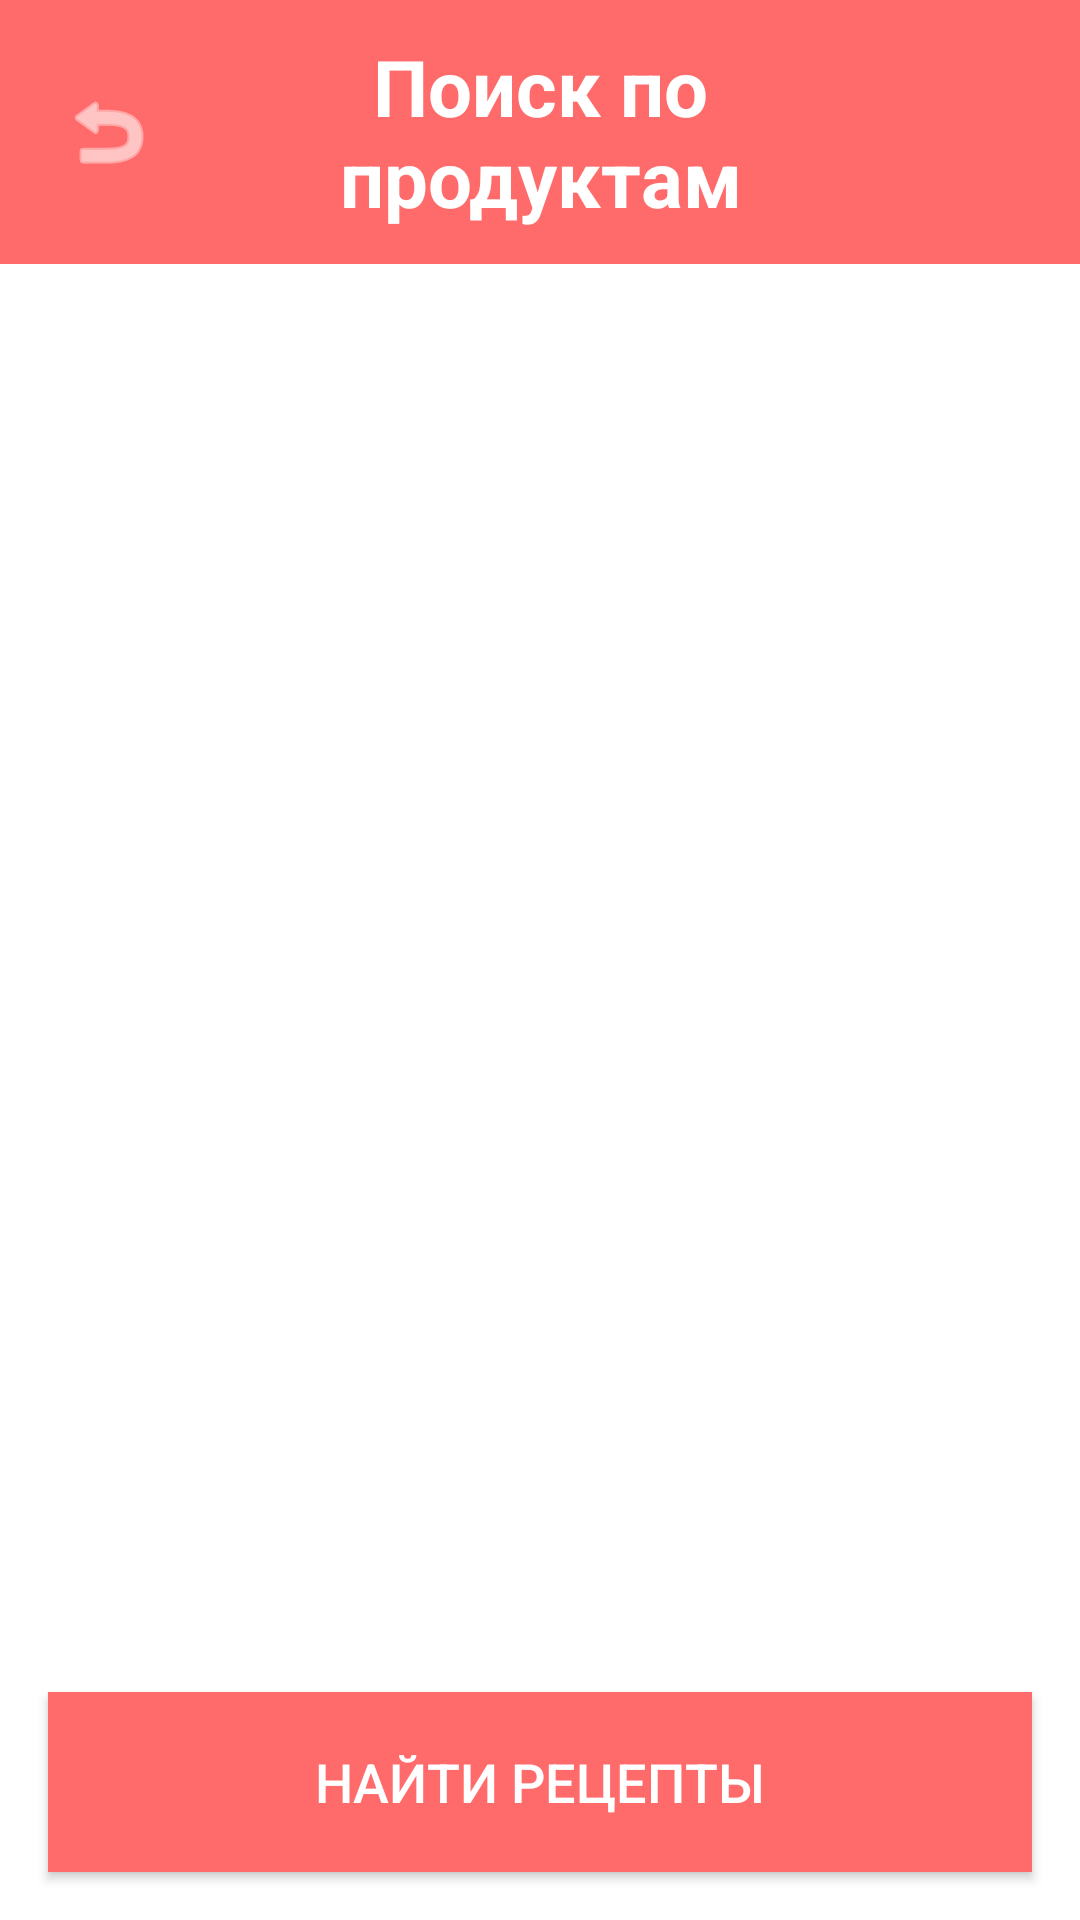

Where to tap for icons on this 1080×1920 app screen, as point (x, y):
Назад: point (109, 133)
